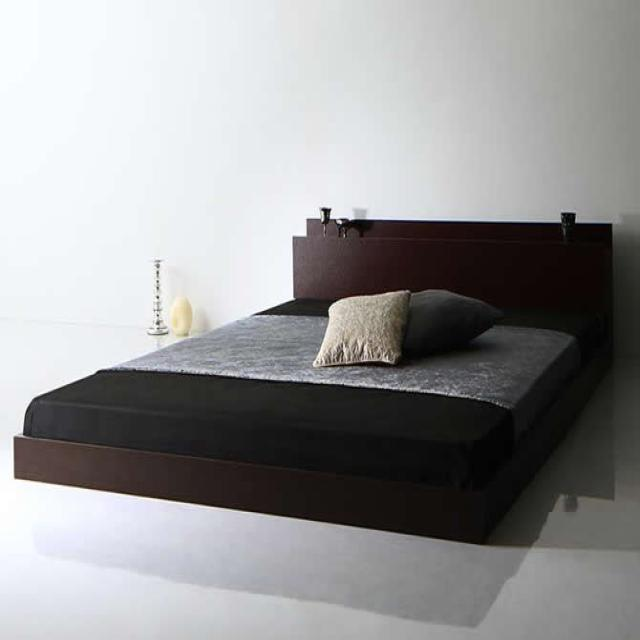bed vintage: (12, 204, 619, 550)
